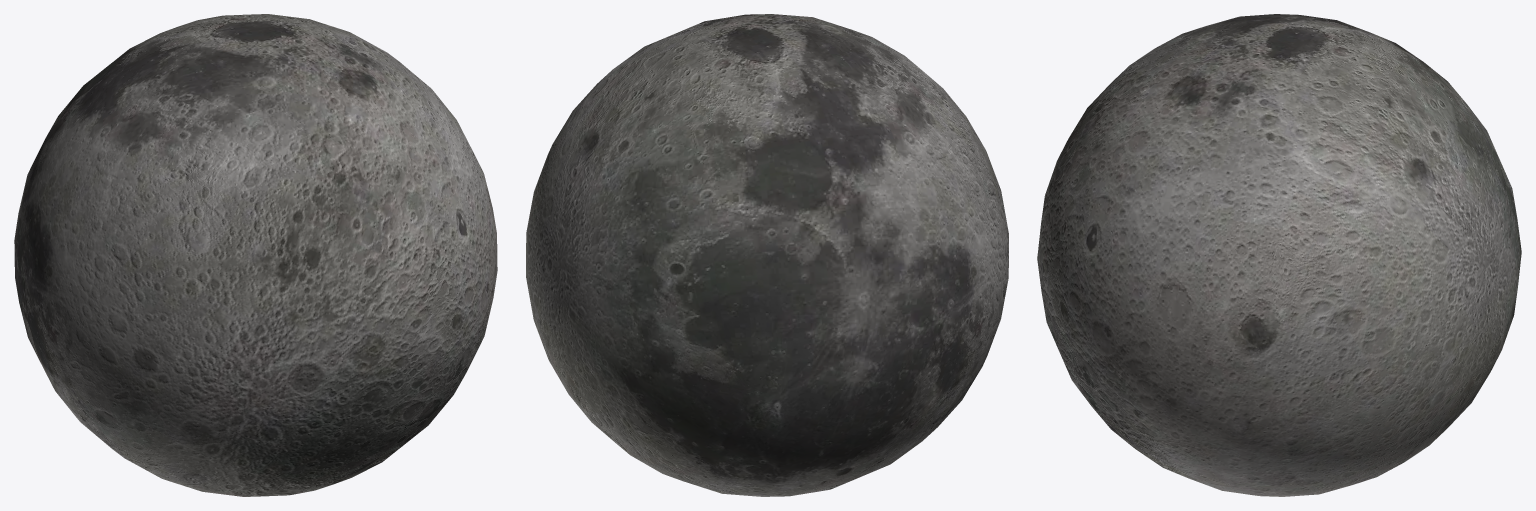
The model's file is moon.glb.
3 views of the same model, side by side, from view 1: azimuth 30°, elevation 25°; view 2: azimuth 150°, elevation 25°; view 3: azimuth 270°, elevation 25° (orthographic).
Visible parts, largest first — view 1: Moon_Cube.002; view 2: Moon_Cube.002; view 3: Moon_Cube.002.
Boxes of the visible parts, x1,y1,x2,y2 form: Moon_Cube.002: [14, 14, 497, 496]; Moon_Cube.002: [526, 14, 1008, 496]; Moon_Cube.002: [1037, 14, 1521, 496].
Bounding box in the file's own units: 3.48 × 3.48 × 3.49.
1 material, 1 textured.
